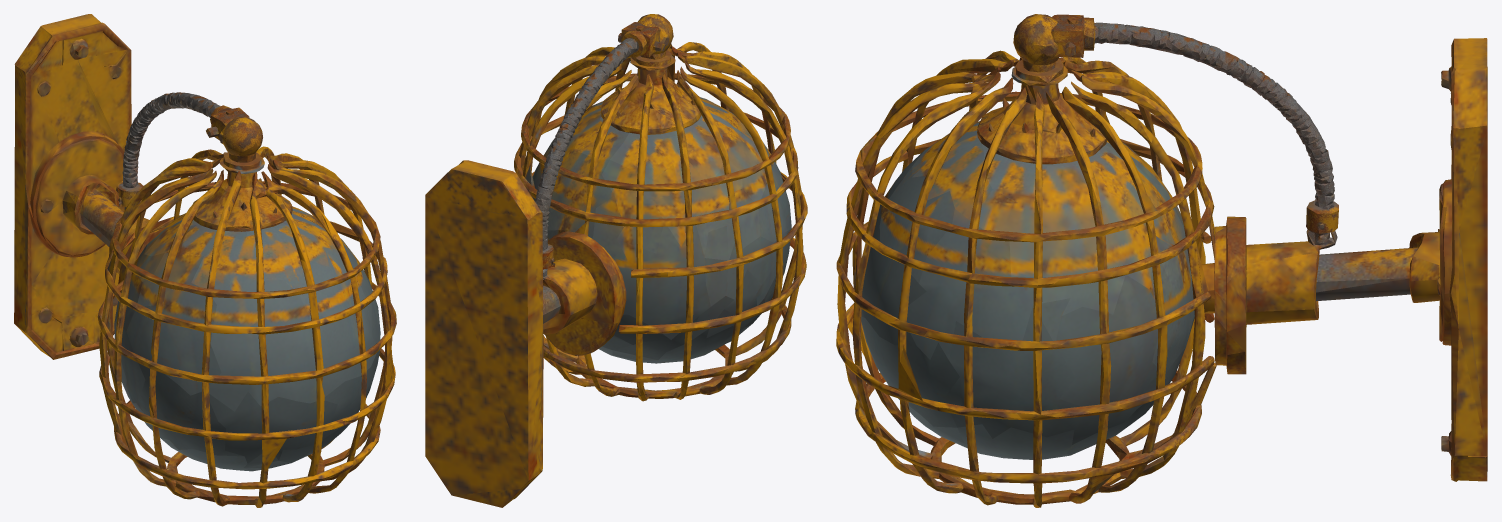
The model's file is lampada_gabbia.glb.
The picture shows the model from 3 angles, left to right: view 1: azimuth 30°, elevation 25°; view 2: azimuth 150°, elevation 25°; view 3: azimuth 270°, elevation 25°; orthographic projection. The views are drawn at different scales.
Bounding box in the file's own units: 1.11 × 1.45 × 1.9.
Materials: 1 (1 with a texture image).
